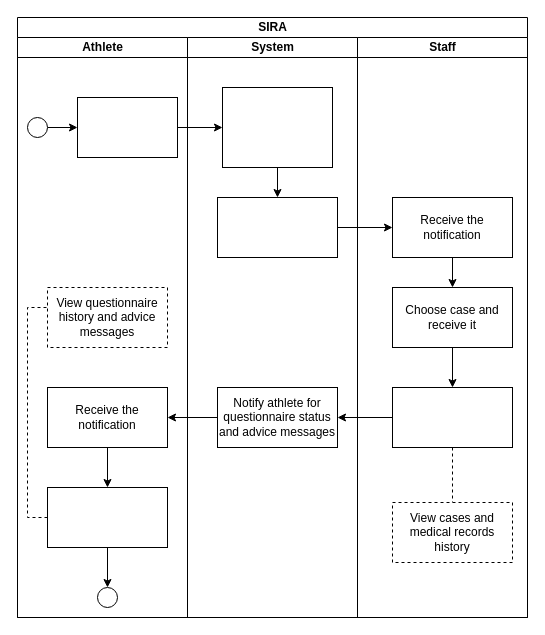
The diagram is 545 pixels wide and 635 high, and some of its shapes have lost their labels. Each missing label, with the centre of its shape:
Check the questionnaire status and react to advice messages: point (107, 517)
Complete a medical record: point (452, 417)
Complete a questionnaire: point (127, 127)
Notify staff for case that contained total score more than 25: point (277, 227)
Save the questionnaire into a questionnaire database: point (277, 127)
